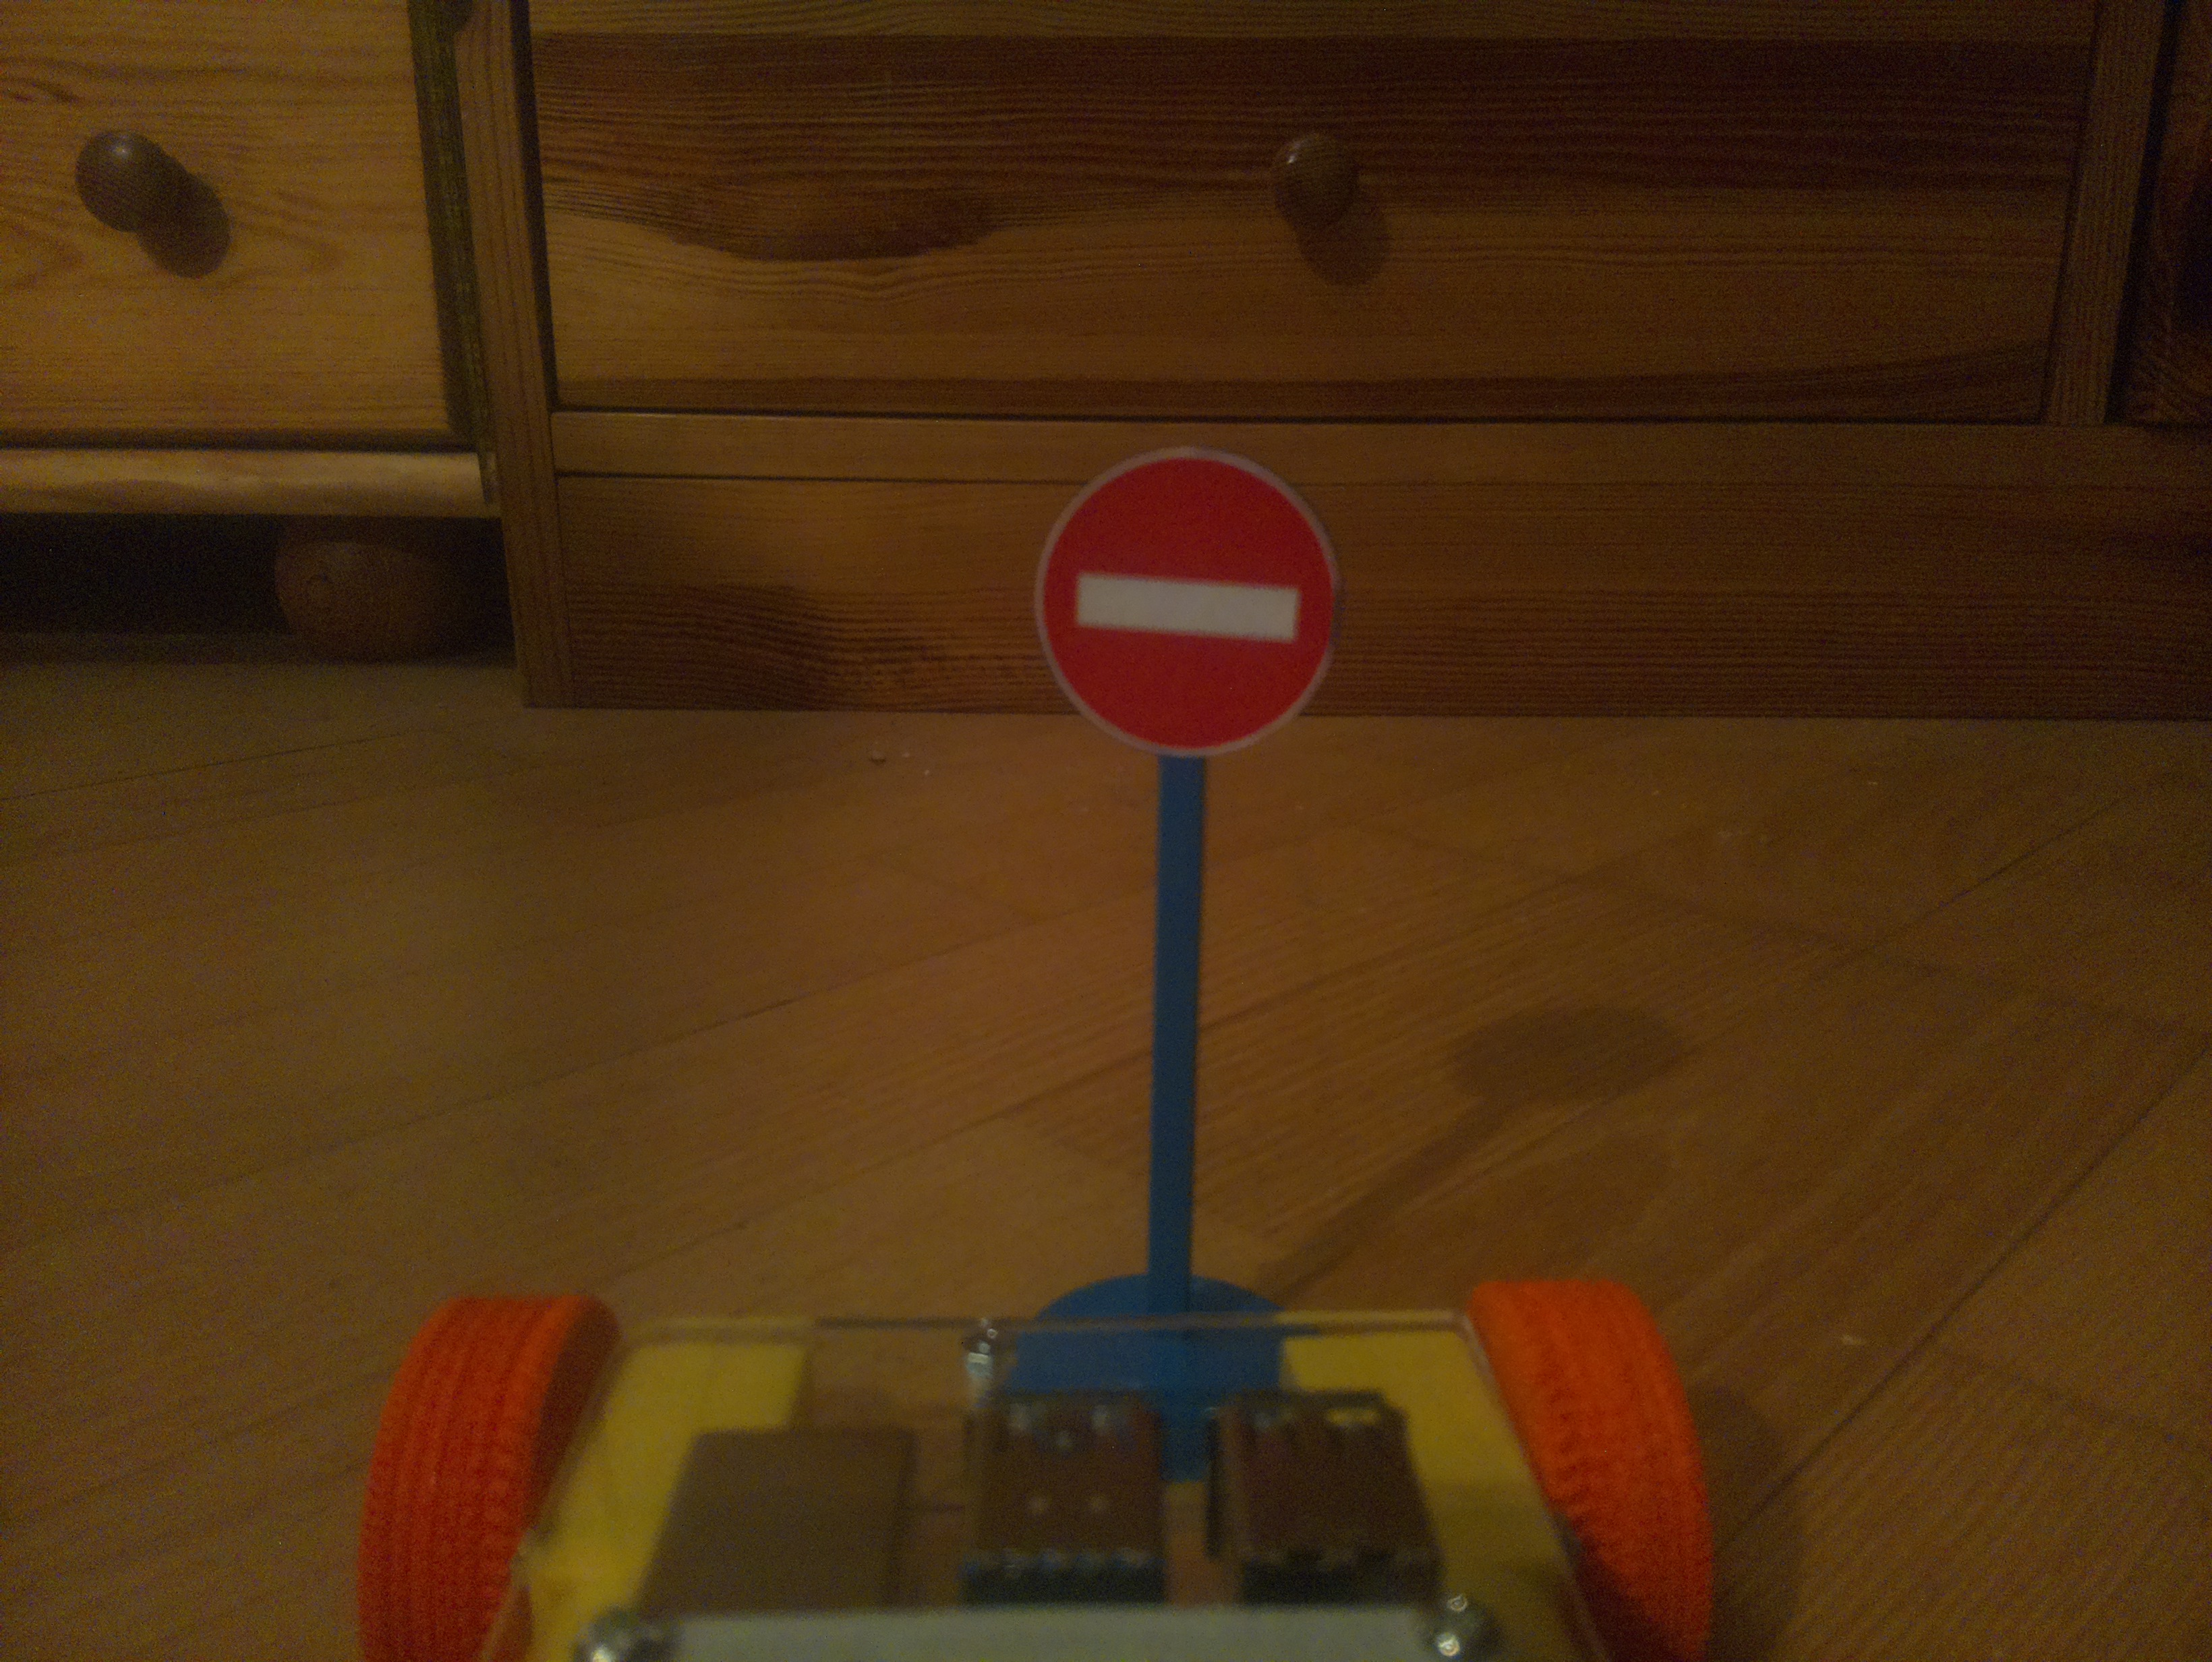brick: (1035, 448, 1341, 759)
